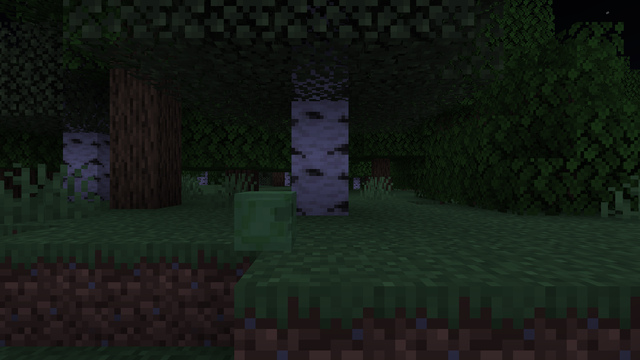slimes: (232, 189, 296, 250)
